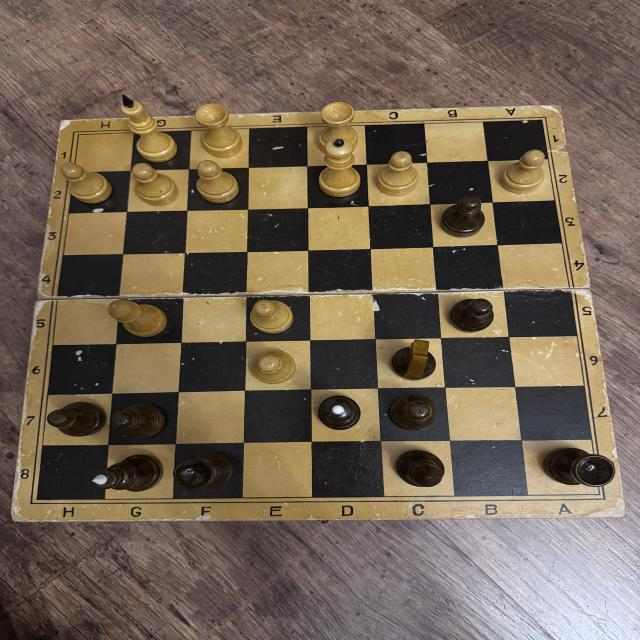black-bishop: (393, 448, 448, 488)
black-king: (90, 452, 163, 493)
black-knight: (388, 338, 438, 381)
black-pawn: (44, 398, 106, 438), (108, 401, 168, 439), (388, 392, 438, 434), (439, 194, 487, 237), (448, 297, 496, 333)
black-queen: (316, 396, 365, 430)
black-rook: (542, 445, 618, 489), (170, 451, 235, 493)
white-bishop: (108, 298, 169, 338)
white-king: (118, 94, 182, 162)
white-pawn: (128, 162, 180, 206), (59, 162, 113, 204), (499, 148, 546, 194), (194, 160, 240, 205), (377, 150, 419, 195), (247, 298, 297, 334), (248, 349, 298, 385)
white-queen: (316, 138, 362, 200)
white-rook: (196, 101, 244, 160), (314, 100, 360, 154)
